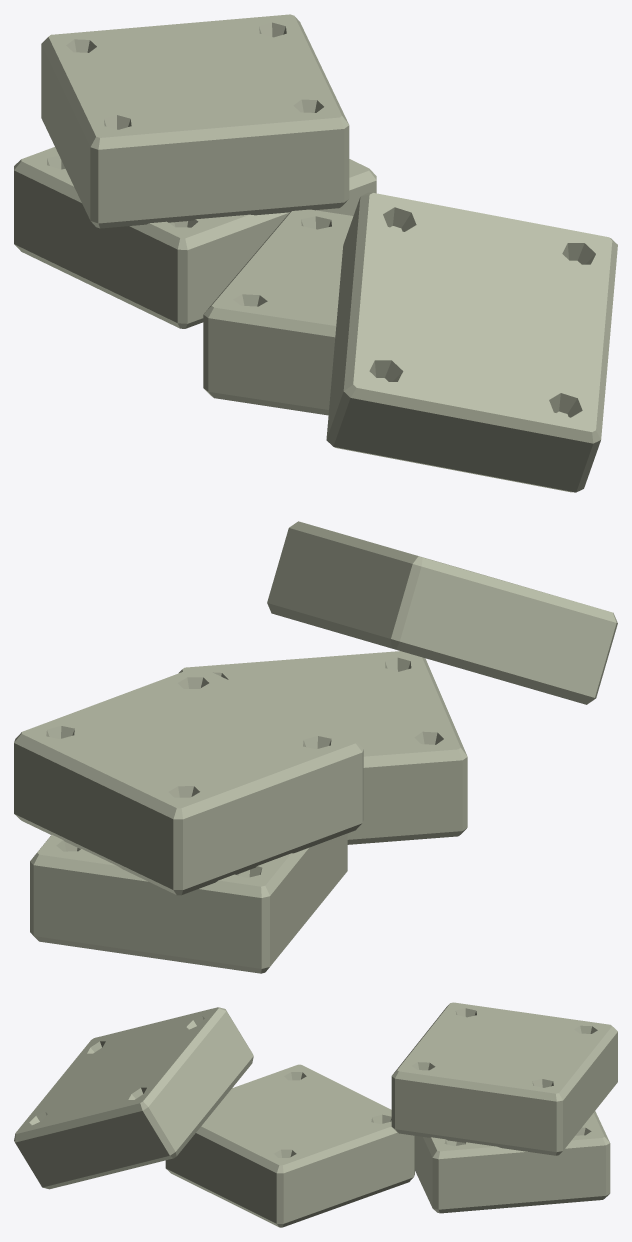
The model's file is tilesx4.fbx.
The picture shows the model from 3 angles, top to bottom: view 1: azimuth 30°, elevation 25°; view 2: azimuth 150°, elevation 25°; view 3: azimuth 270°, elevation 25°; orthographic projection. The views are drawn at different scales.
Visible parts, largest first — view 1: Tiles4; view 2: Tiles4; view 3: Tiles4.
Boxes of the visible parts, x1=… form: Tiles4: x1=14, y1=14, x2=617, y2=492; Tiles4: x1=14, y1=521, x2=617, y2=973; Tiles4: x1=14, y1=1002, x2=617, y2=1227.
Bounding box in the file's own units: 142 × 94.77 × 334.
